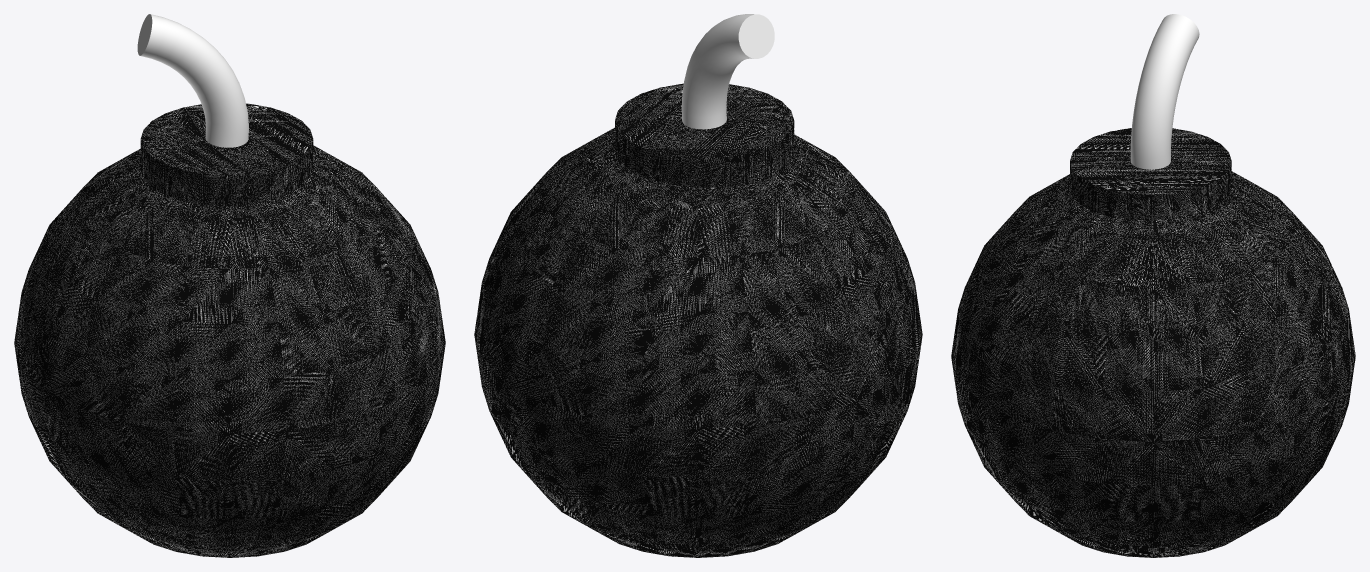
3 views of the same model, side by side, from view 1: azimuth 30°, elevation 25°; view 2: azimuth 150°, elevation 25°; view 3: azimuth 270°, elevation 25° (orthographic). The views are drawn at different scales.
Visible parts, largest first — view 1: SketchUp, group_0 (×2); view 2: SketchUp, group_0 (×3); view 3: SketchUp, group_0 (×2).
Part boxes in pixels (x1,y1,x2,y2): SketchUp: (14,139,445,557); group_0 (×2): (140,14,313,205); SketchUp: (474,120,922,557); group_0 (×3): (615,14,794,188); SketchUp: (951,171,1355,557); group_0 (×2): (1070,14,1231,220).
Size of the model in its own units: 78.74 by 78.74 by 106.
3 materials, 3 textured.
